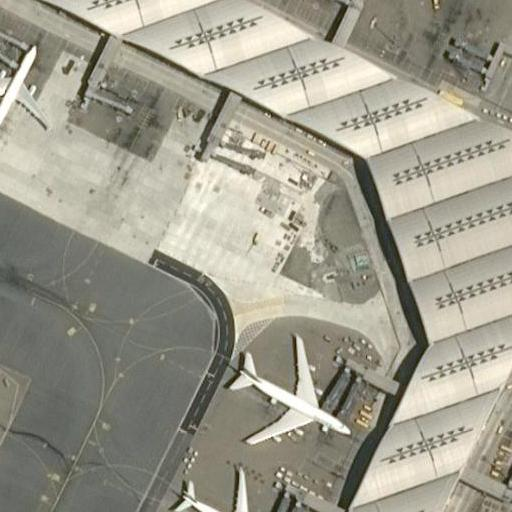Aircraft: (217, 321, 357, 450), (221, 331, 353, 447), (158, 459, 289, 512), (0, 38, 54, 152), (0, 33, 53, 149), (168, 465, 286, 512)
